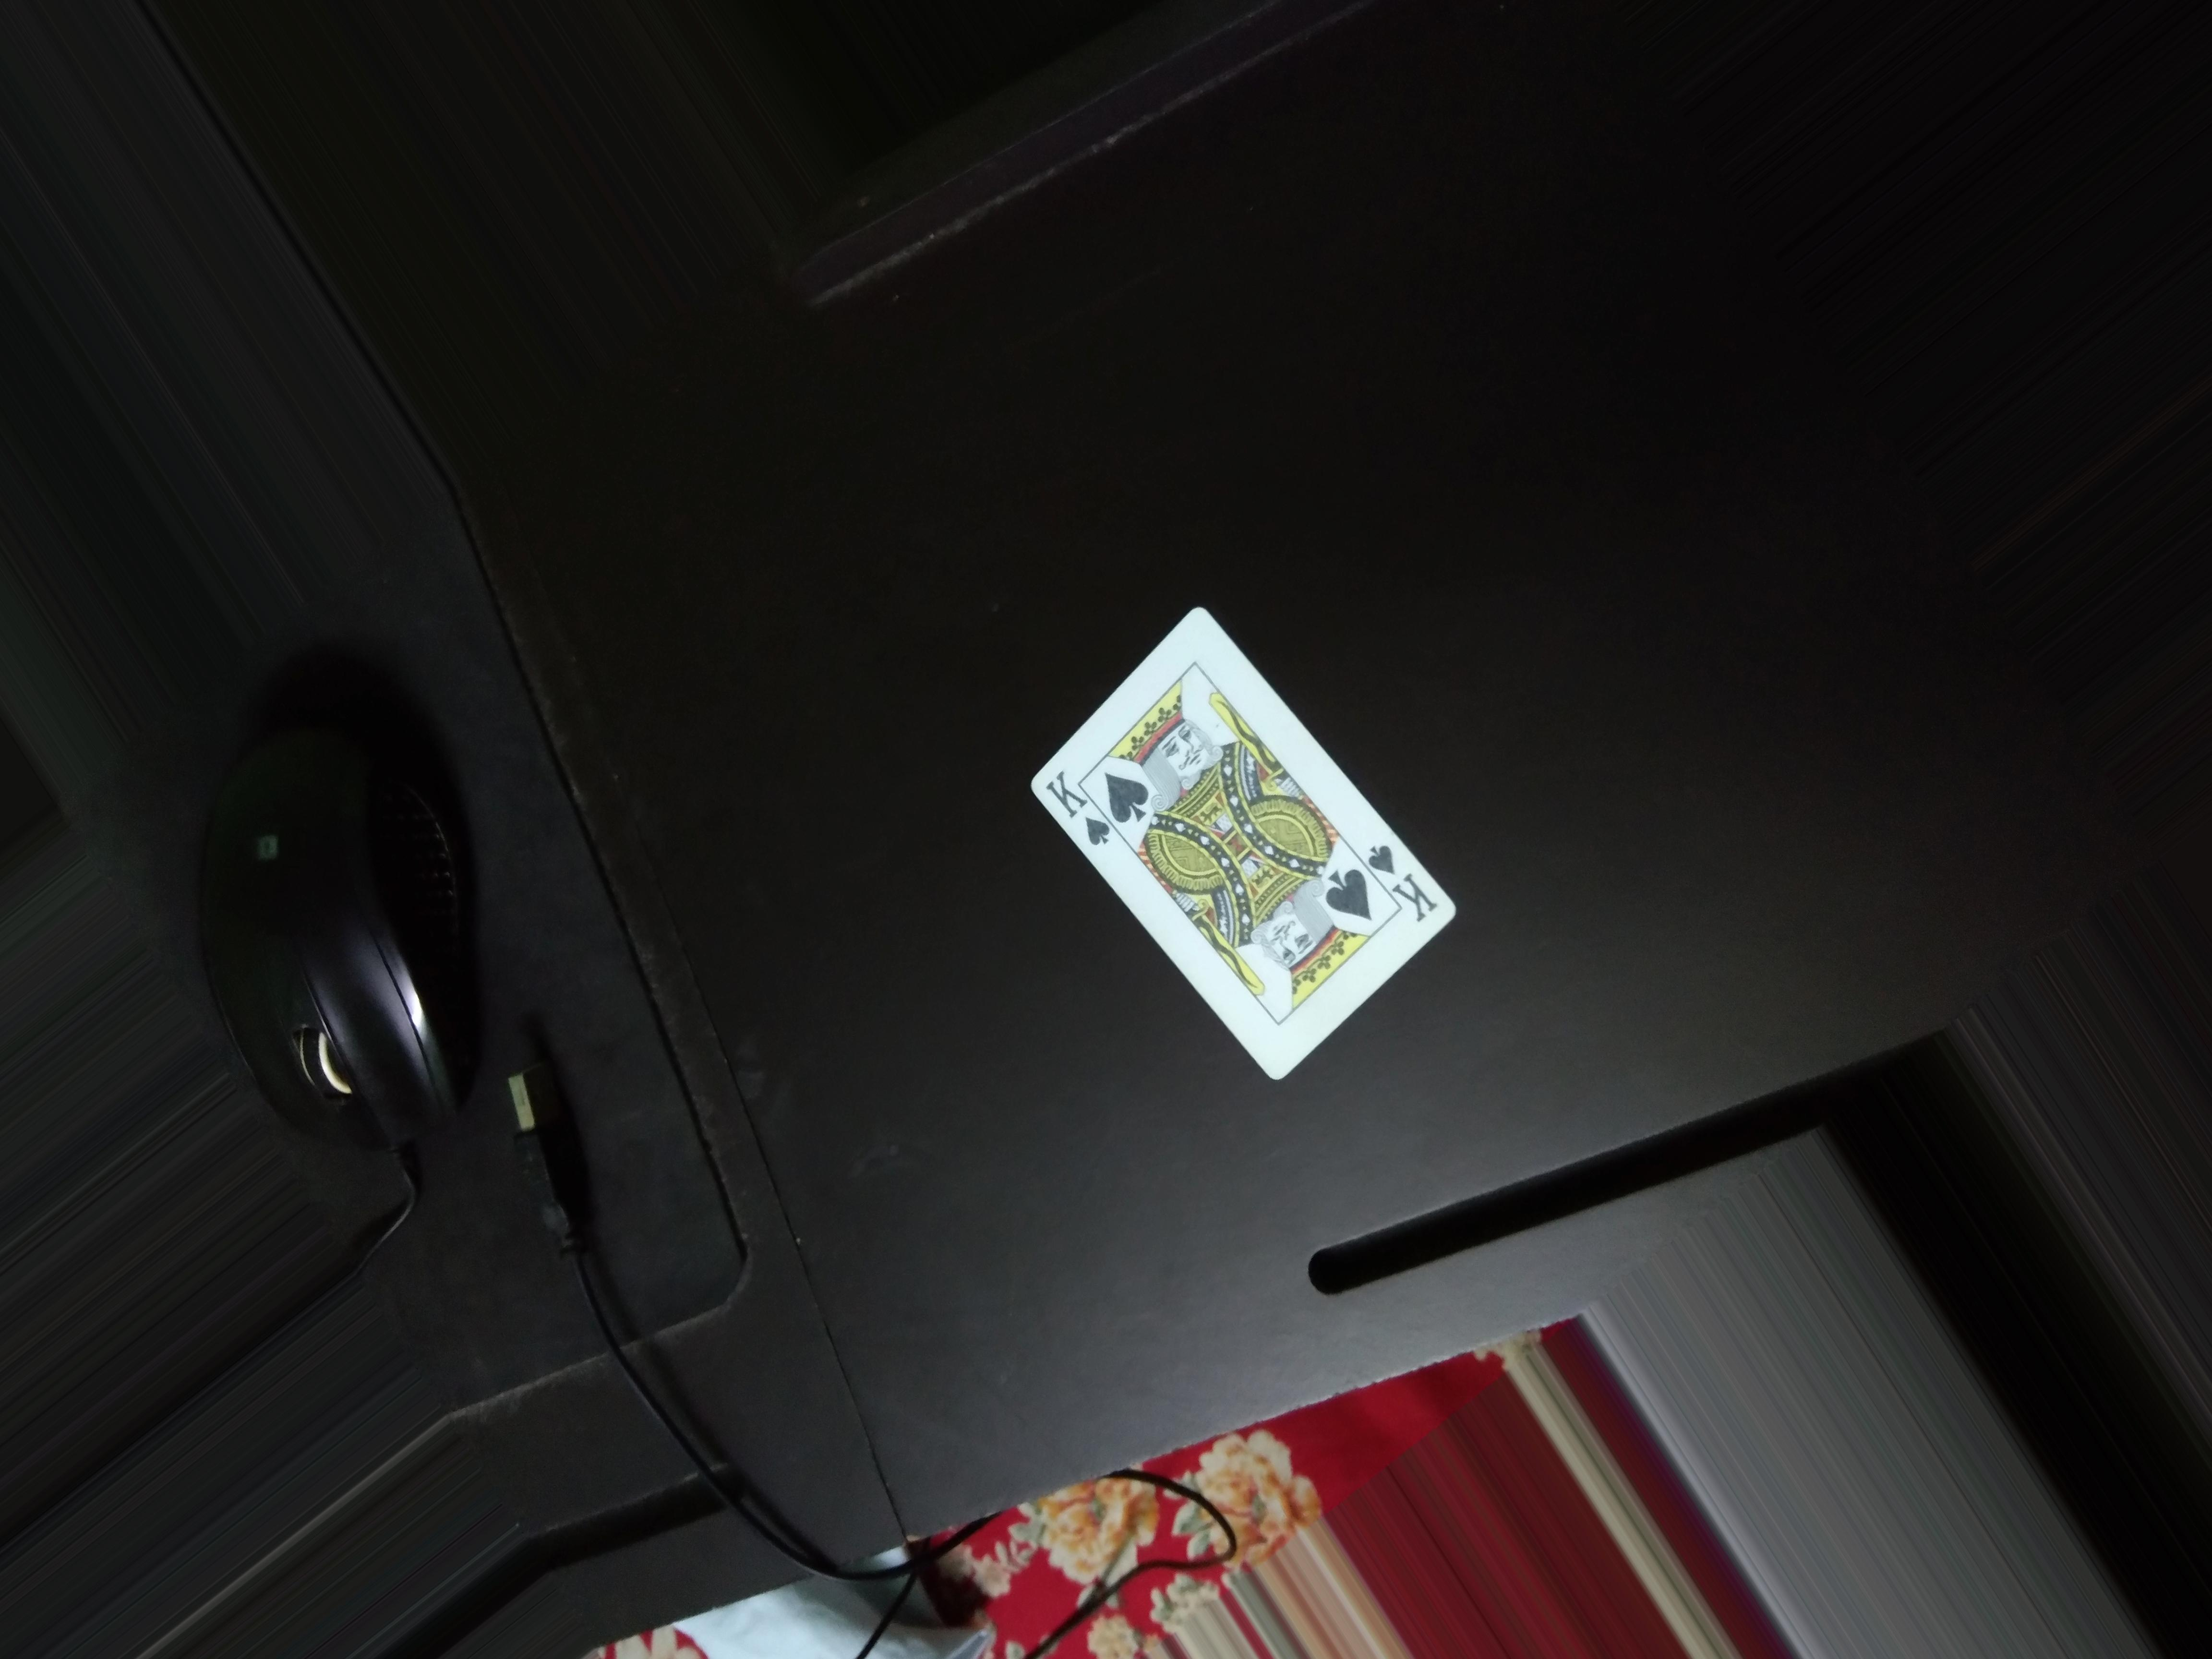KS: (1022, 763, 1113, 847)
